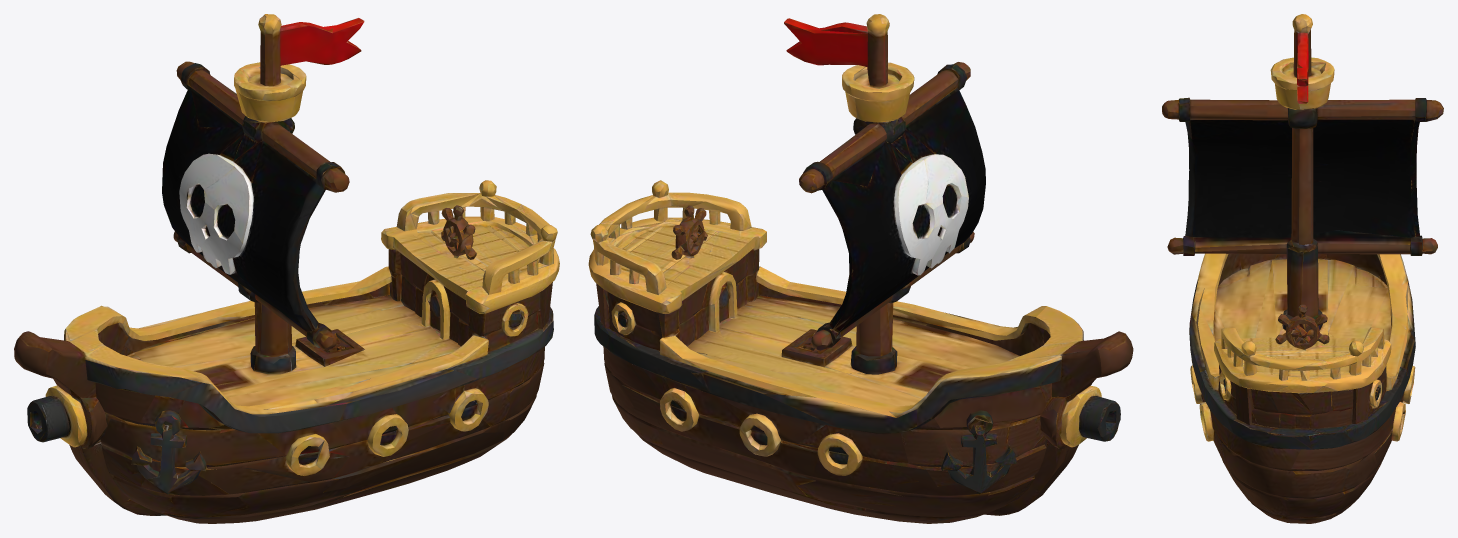
The model's file is boot.glb.
3 views of the same model, side by side, from view 1: azimuth 30°, elevation 25°; view 2: azimuth 150°, elevation 25°; view 3: azimuth 270°, elevation 25° (orthographic). The views are drawn at different scales.
Size of the model in its own units: 1.9 by 1.7 by 1.01.
1 material, 1 textured.
